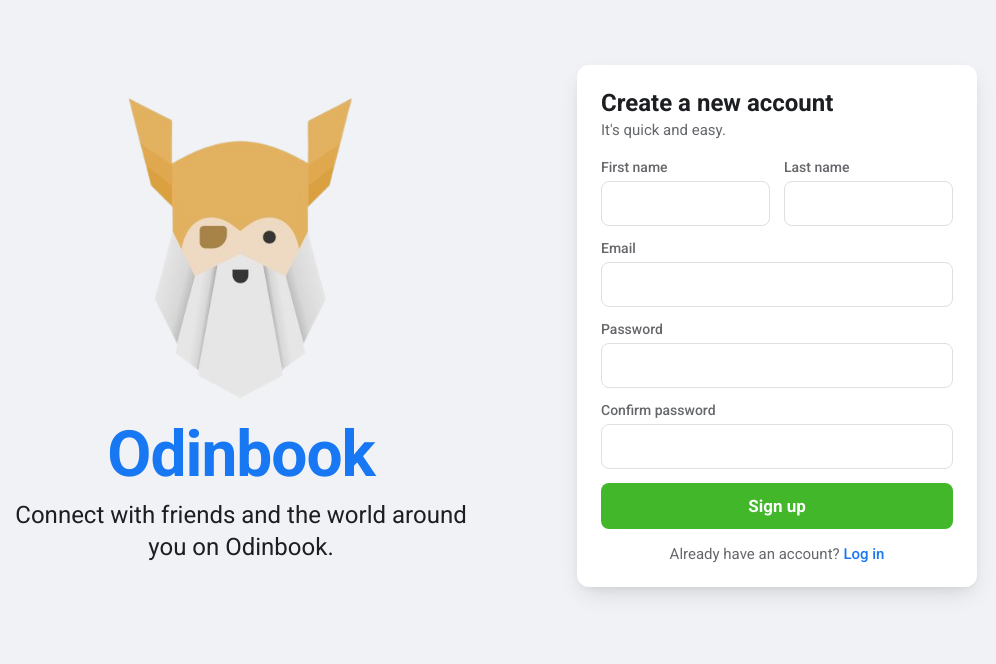
Test: Authentication › shows the form errors before sending anything
This screenshot has width=996, height=664.
Type "A" into the field named "firstname" at [686, 204], box [601,181,770,226]
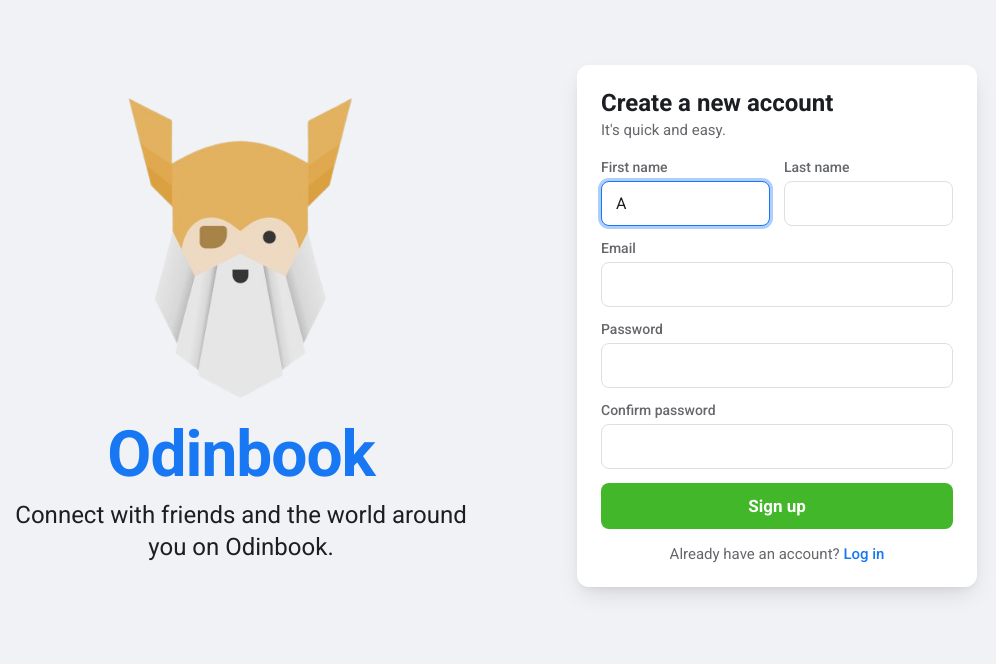
Type "short" into the password field named "password" at [777, 366], box [601,343,953,388]
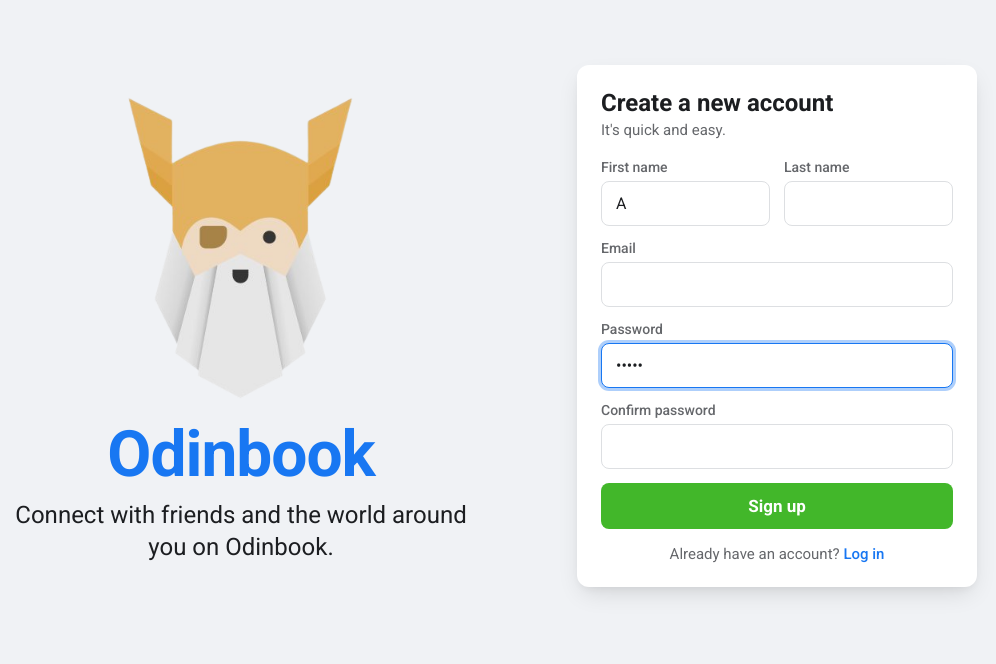
Click the button "Sign up" at [777, 506], box [601,483,953,529]
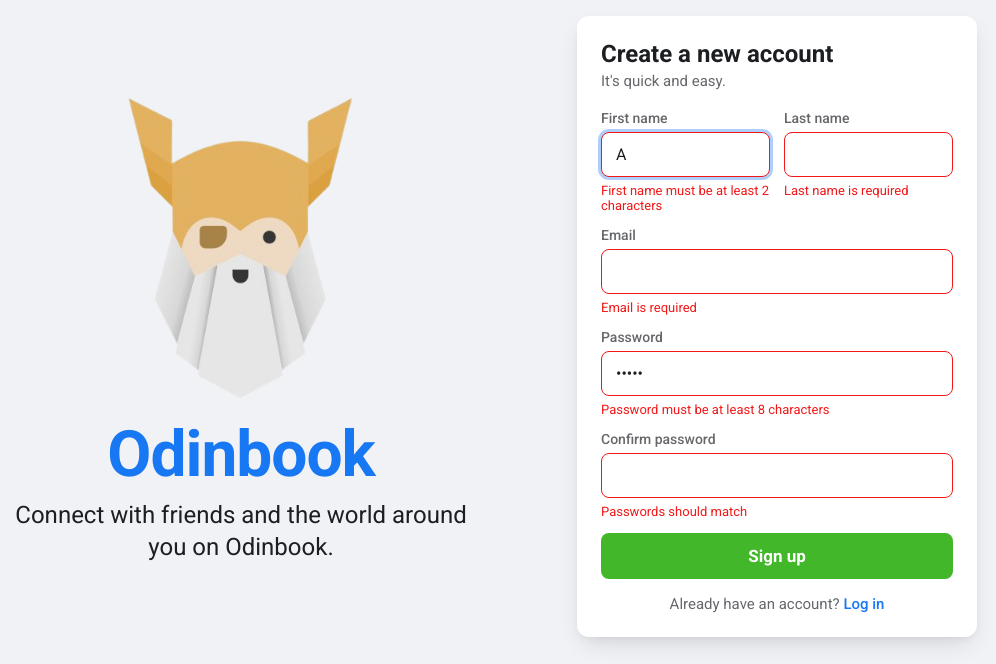
Expected: the text "First name must be at least 2 characters" is shown, [601,182,770,212]
Expected: the text "Password must be at least 8 characters" is shown, [601,402,830,416]
